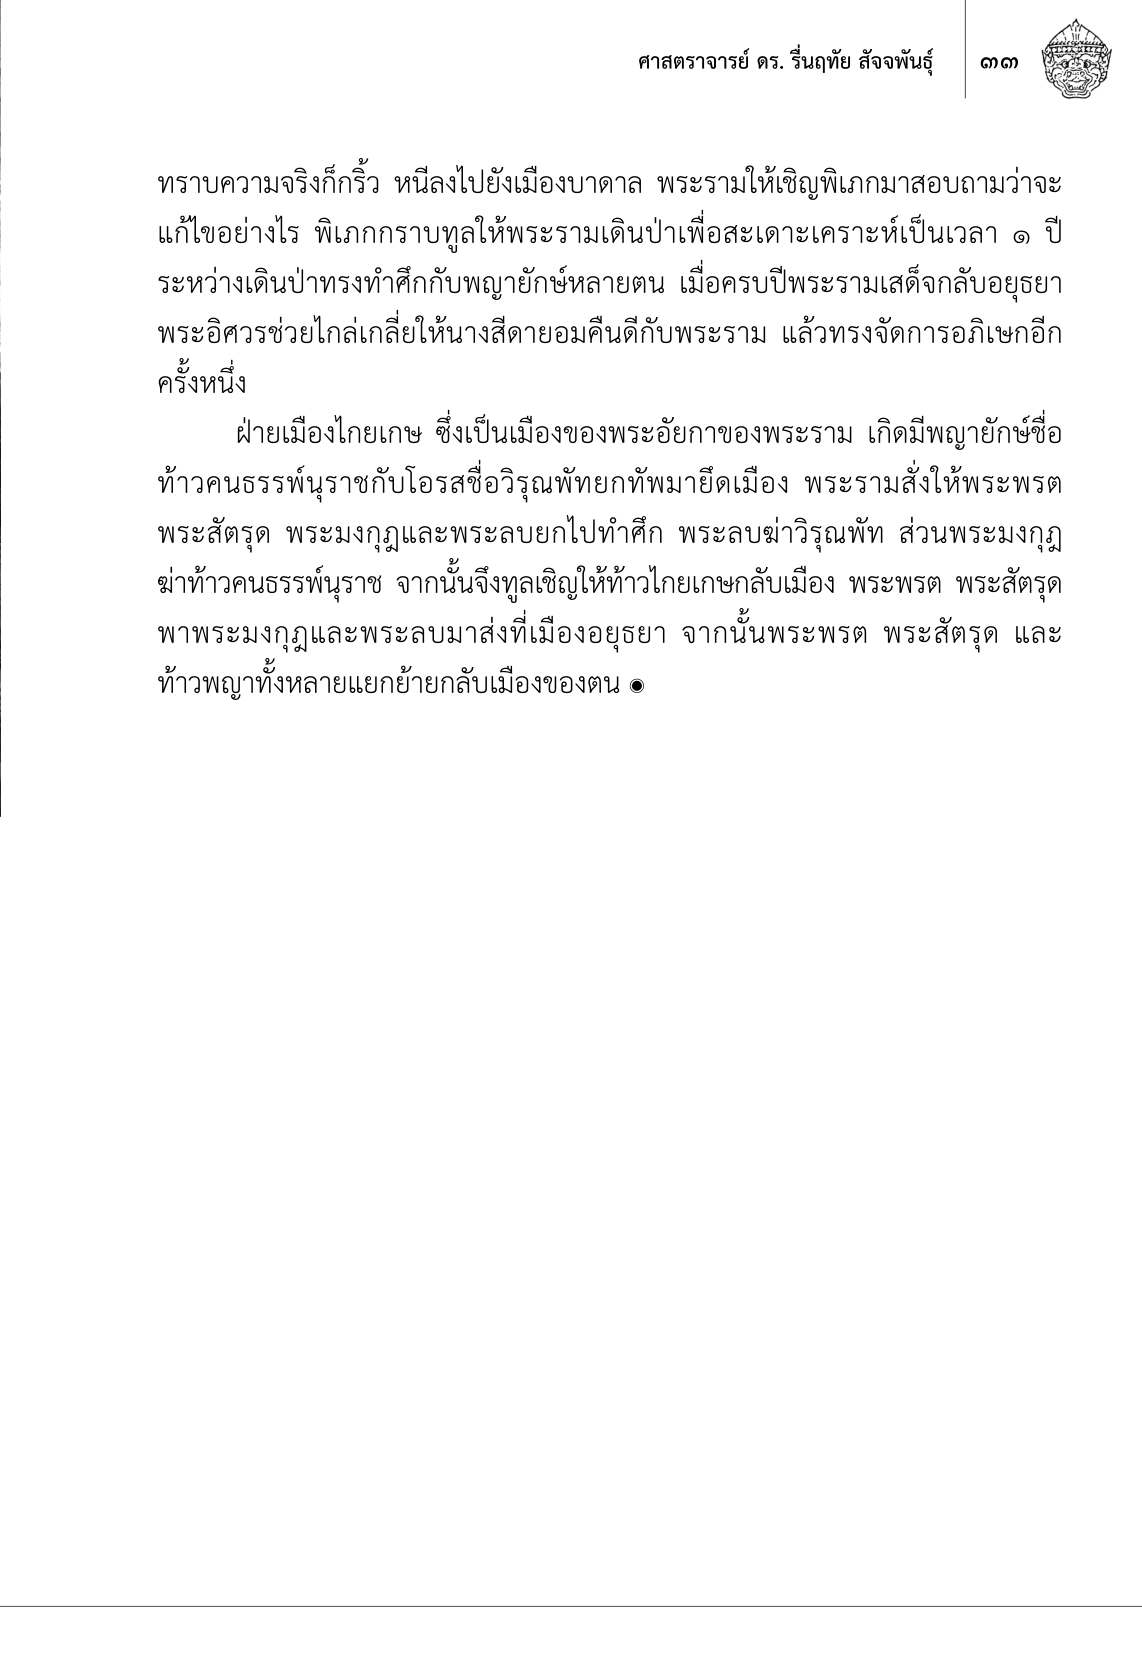thai: (151, 403, 1067, 706), (155, 152, 1067, 398), (632, 39, 938, 83), (976, 44, 1019, 75)
